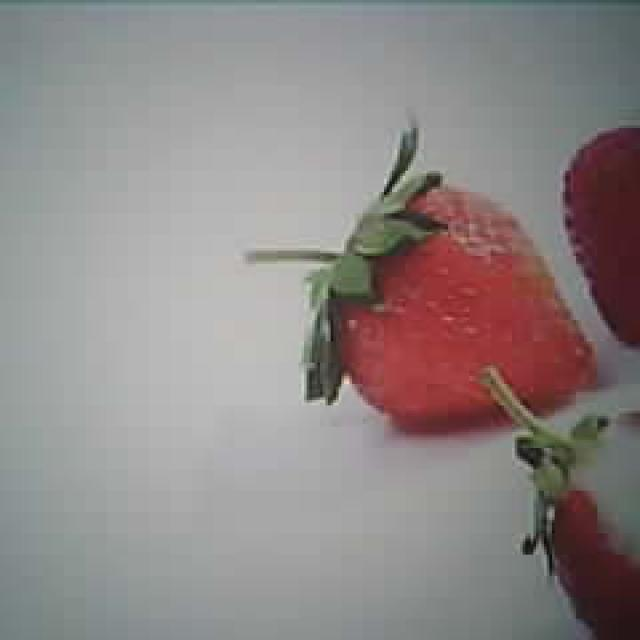strawberry: (337, 187, 596, 423)
